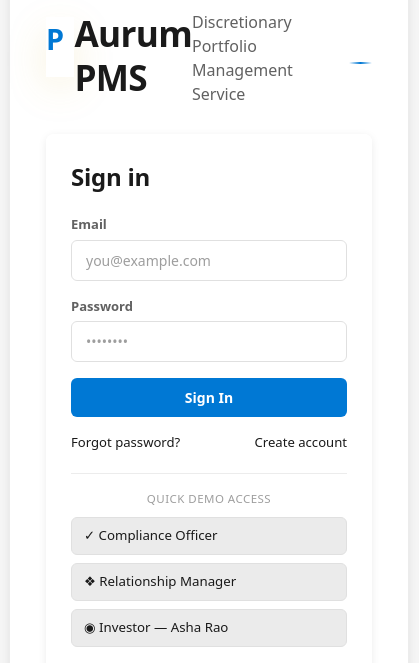
LoginPage › can navigate back from forgot to login
Click the button "Forgot password?". click: (126, 443)
box: [71,433,180,453]
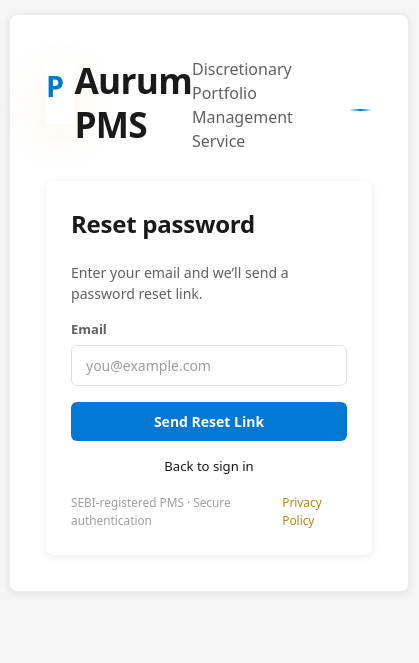
Click the button "Back to sign in". click: (209, 467)
box: [164,457,254,476]
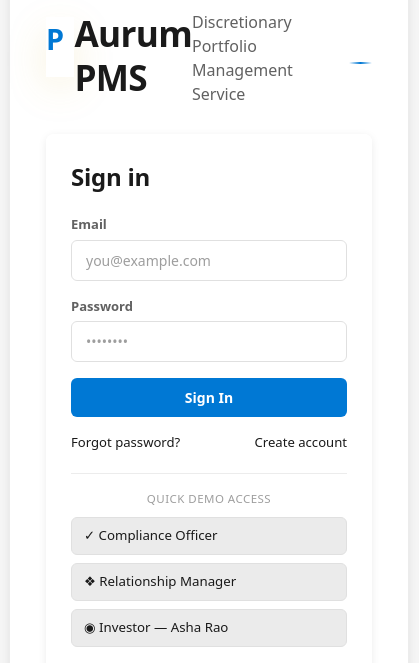
Expected: the heading "Sign in" is shown, [71,160,150,193]
